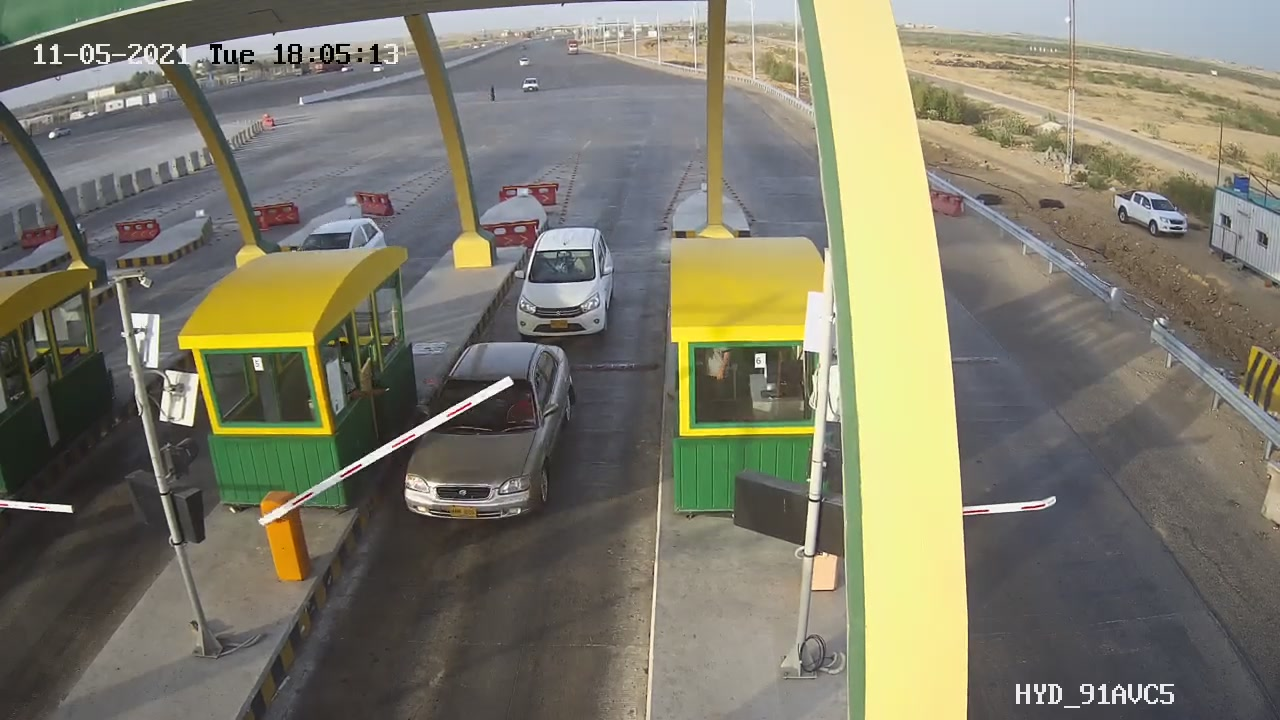F1: (390, 338, 582, 527), (500, 218, 631, 346)
